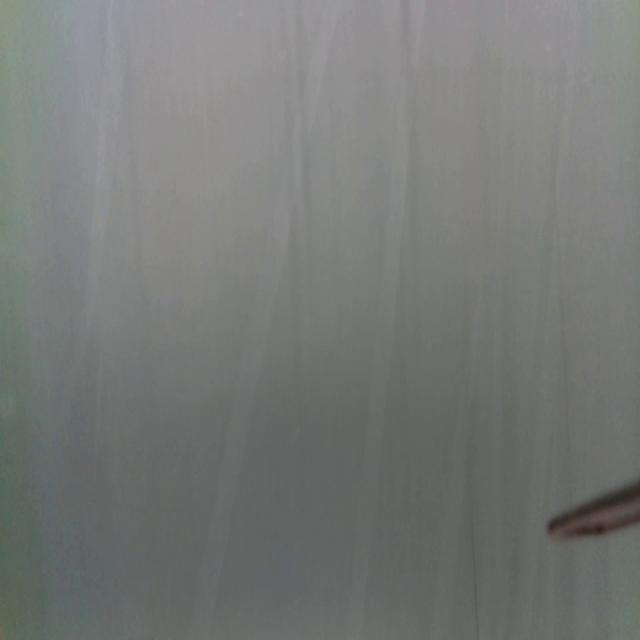crease: (183, 0, 340, 639), (337, 5, 428, 640), (471, 522, 480, 640)
